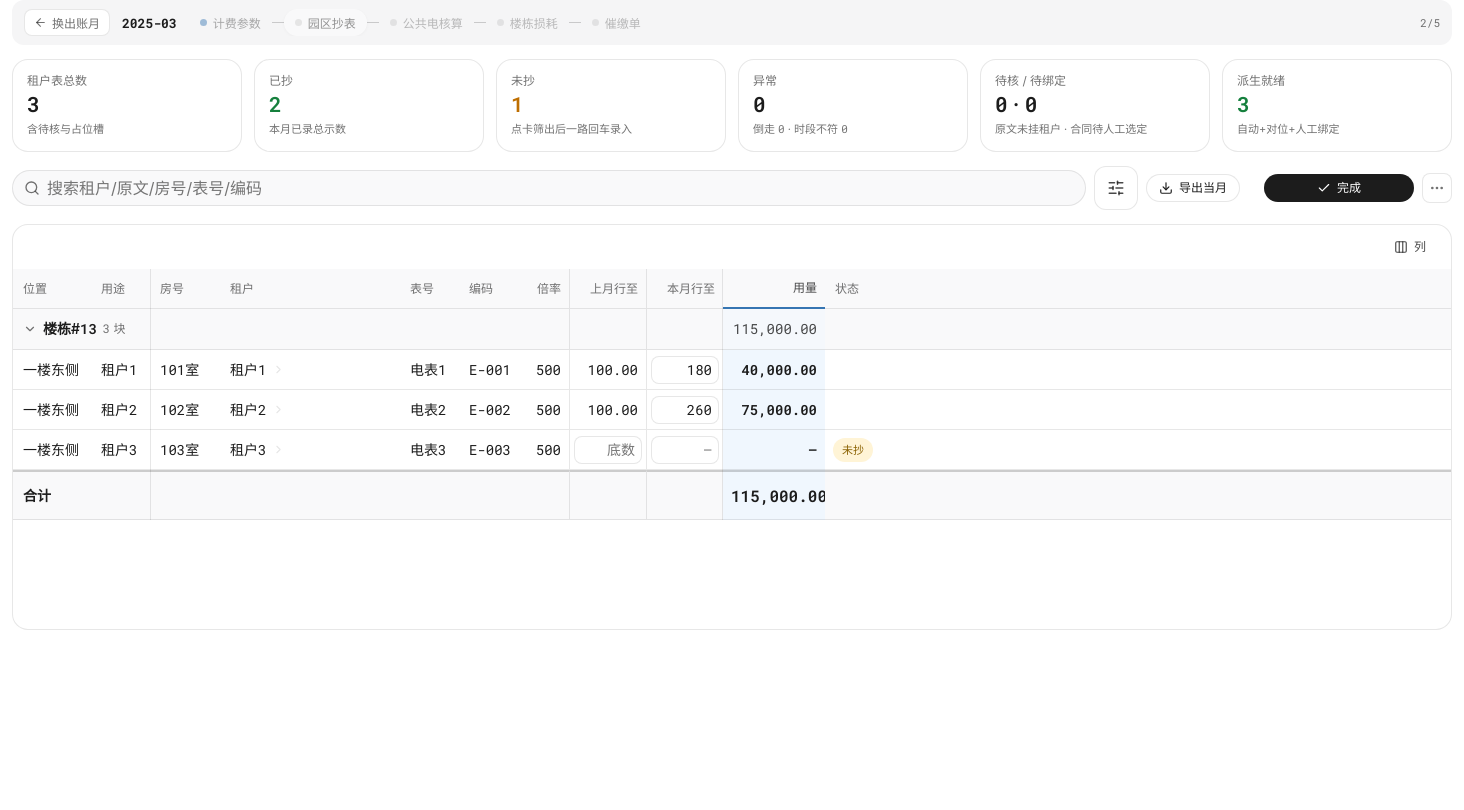
§5.10 M 档(601–960)· 平板竖屏:标题行不画、筛选照收、主动作 2 个留在流内 › 「导出当月」已在流内,「⋯」里不再重复列第二条
This screenshot has width=1464, height=810.
Click the button with class "fp-more-btn" at (1437, 188), box x1=1422 y1=173 x2=1452 y2=203
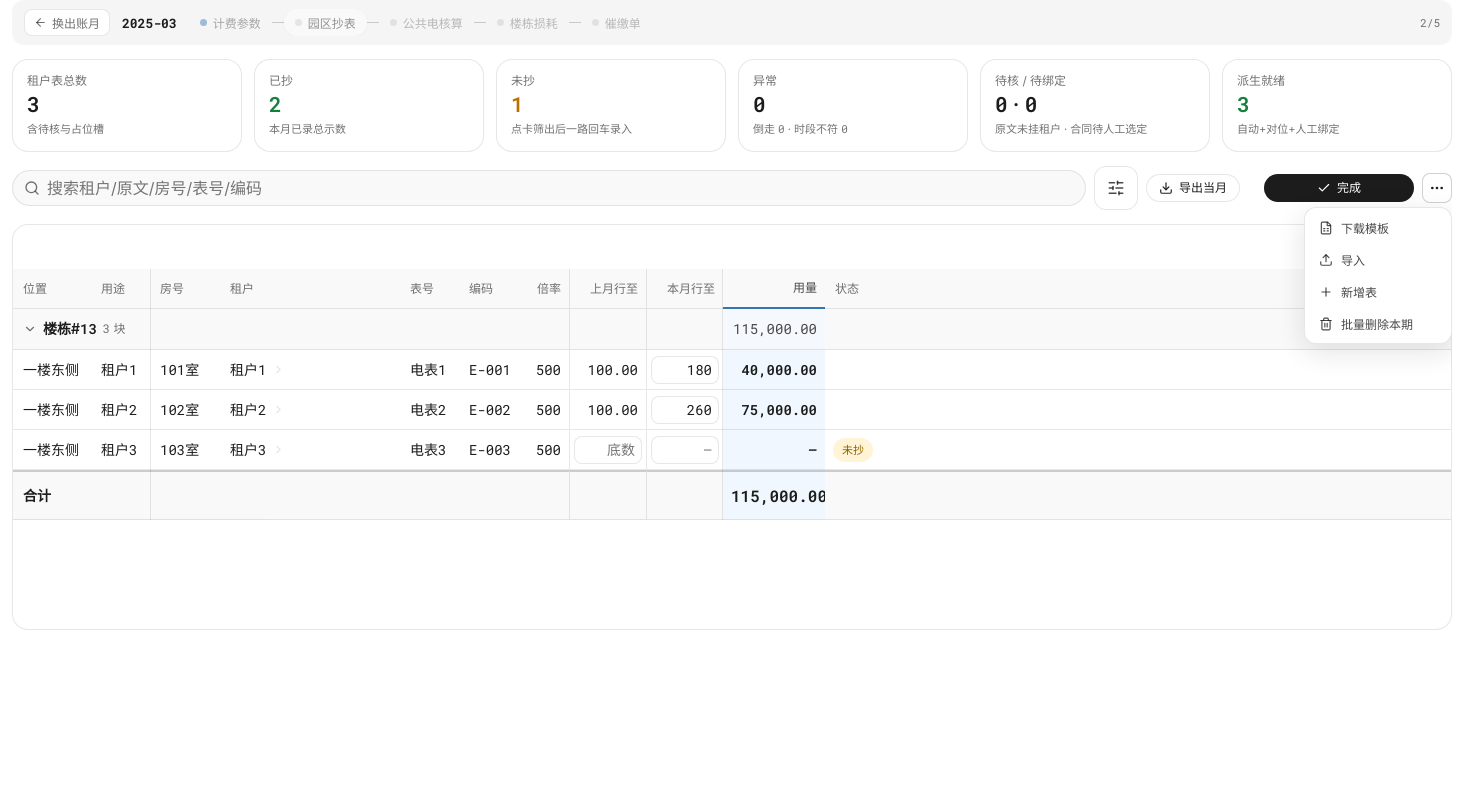
Now the elements with class "fp-more-item" read "下载模板", "导入", "新增表", "批量删除本期", in this order, box x1=1309 y1=212 x2=1447 y2=243; x1=1309 y1=244 x2=1447 y2=275; x1=1309 y1=276 x2=1447 y2=307; x1=1309 y1=308 x2=1447 y2=339
